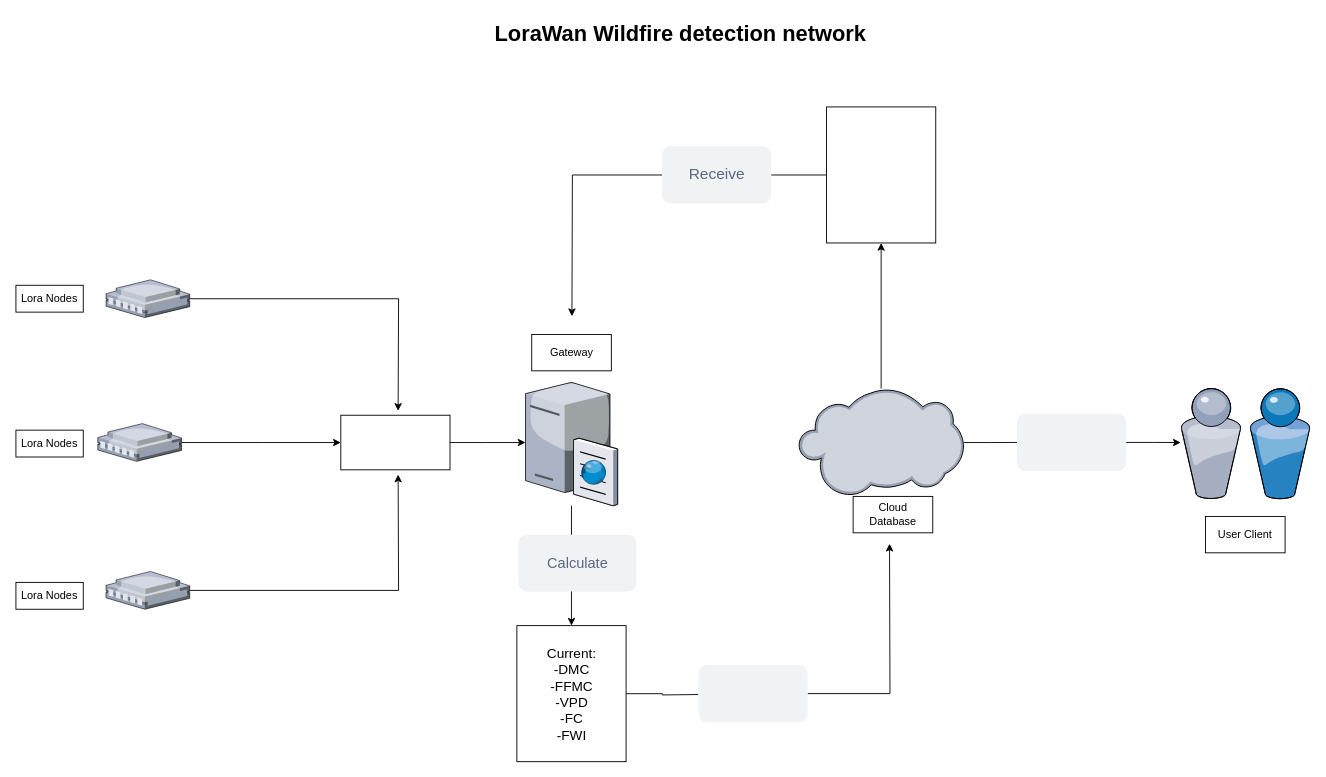
Image size: 1326x777. Some labels were removed from this diagram. Each missing label, with the box of its shape:
Humidity Temperature: (340, 414, 450, 470)
Previous day: -DMC -FFMC -FC: (826, 106, 936, 243)
Update: (698, 664, 807, 722)
Visualize: (1016, 413, 1126, 471)
